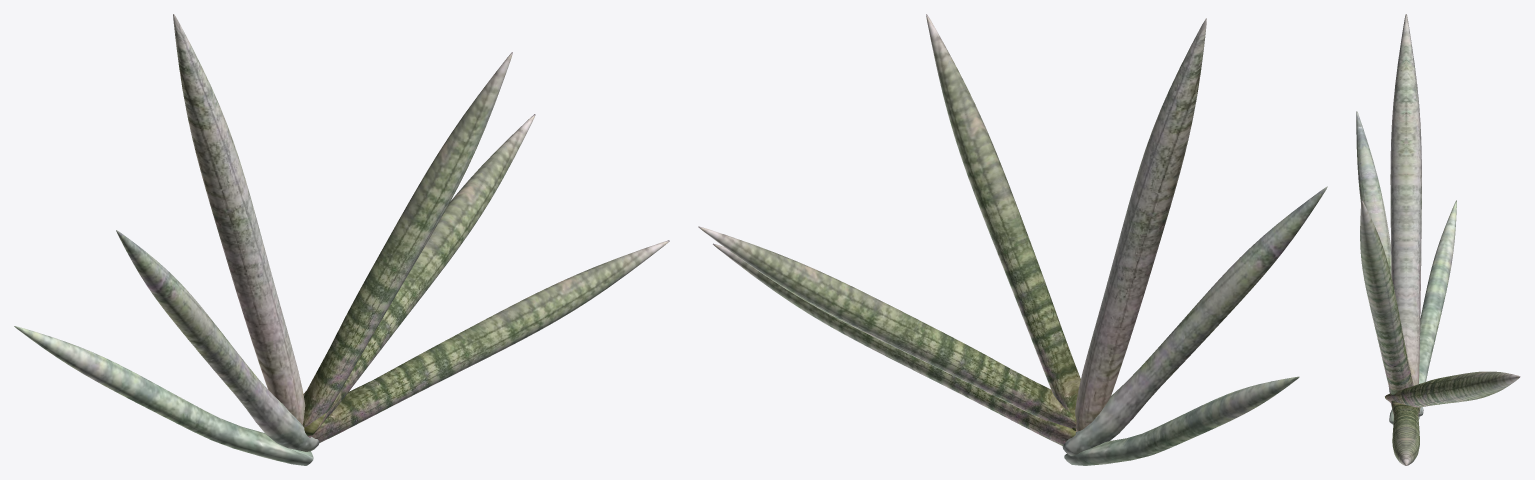
Rendered from dracaena trifasciata.fbx.
3 views of the same model, side by side, from view 1: azimuth 30°, elevation 25°; view 2: azimuth 150°, elevation 25°; view 3: azimuth 270°, elevation 25° (orthographic). The views are drawn at different scales.
Parts seen in each view (by area): view 1: dracaena trifasciata; view 2: dracaena trifasciata; view 3: dracaena trifasciata.
Boxes of the visible parts, box(x1,y1,x2,y2) form: dracaena trifasciata: box(14, 14, 669, 465); dracaena trifasciata: box(698, 14, 1327, 465); dracaena trifasciata: box(1356, 14, 1520, 465).
Bounding box in the file's own units: 23.63 × 17.39 × 7.06.
Materials: 4 (4 with a texture image).
